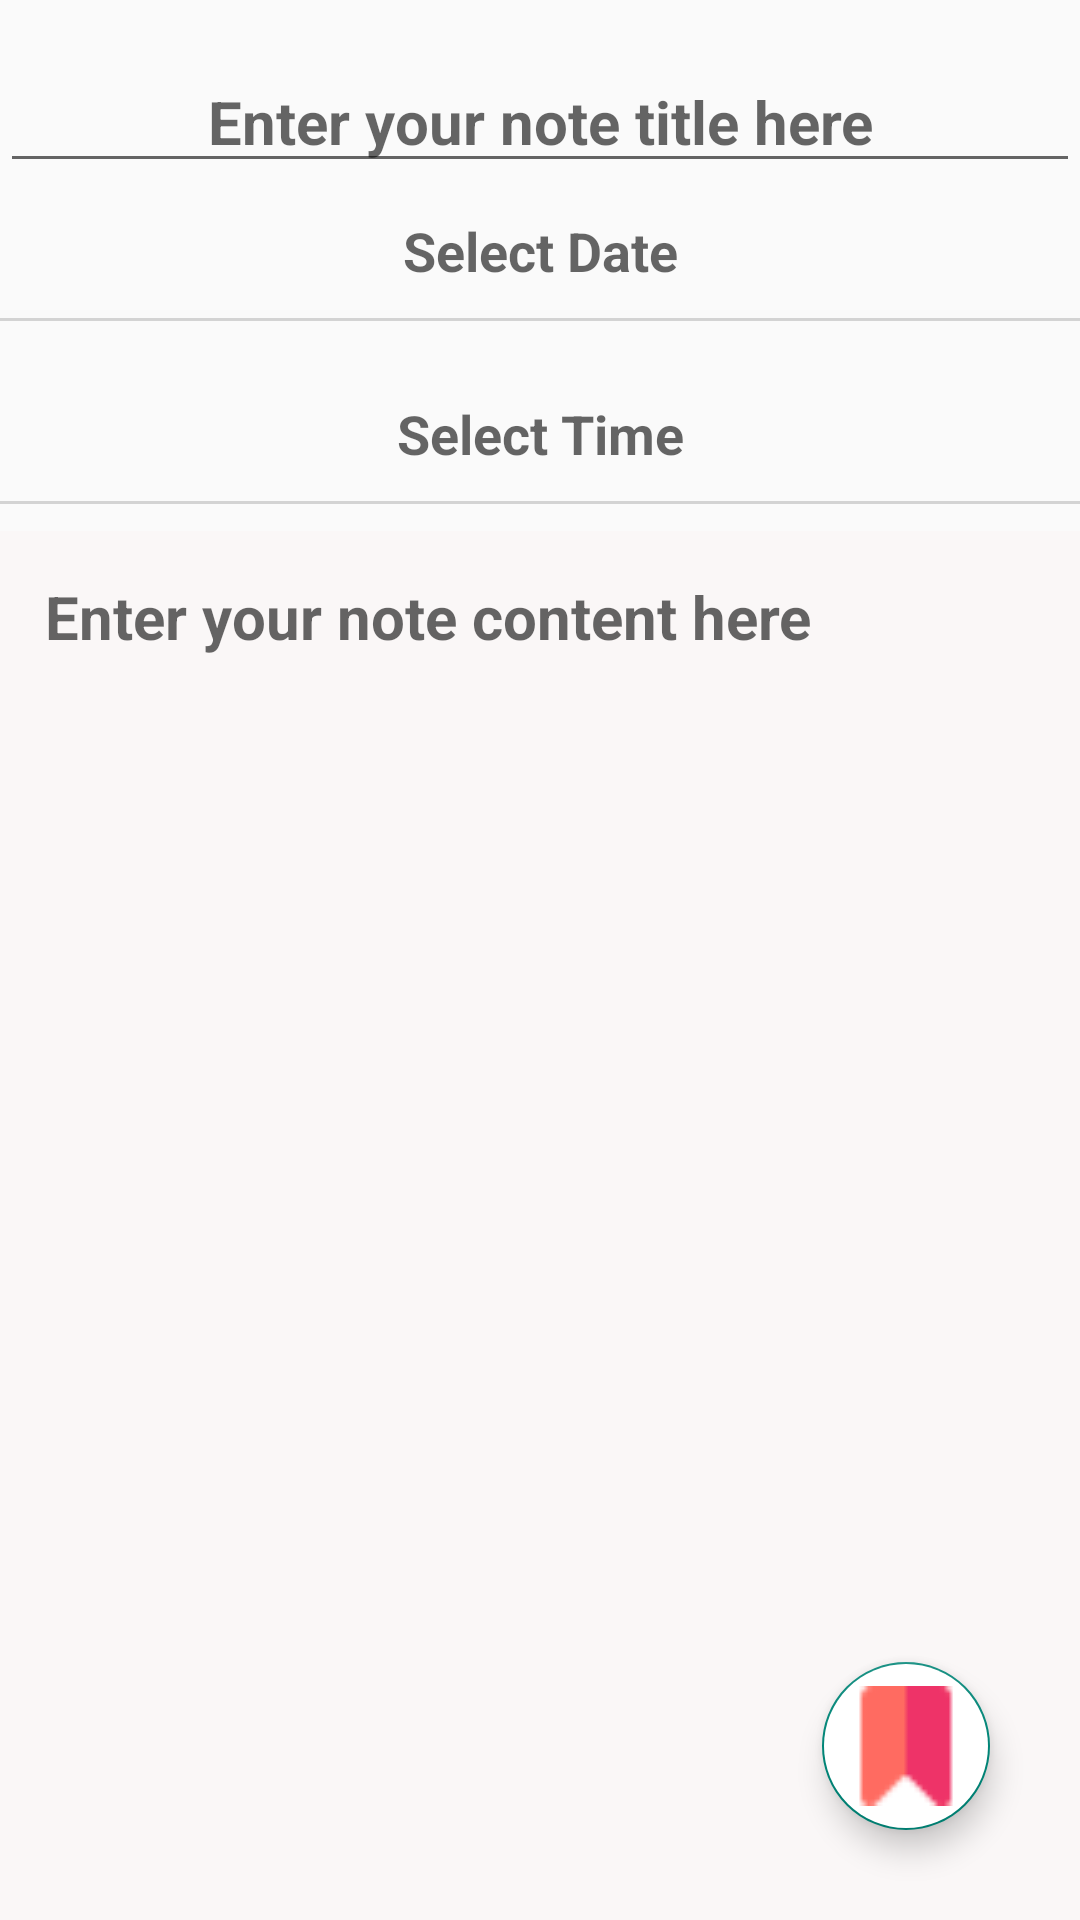

Screen size 1080*1920. Icon name, then its center in pixels as (x=x, y=y):
save: (x=906, y=1746)
